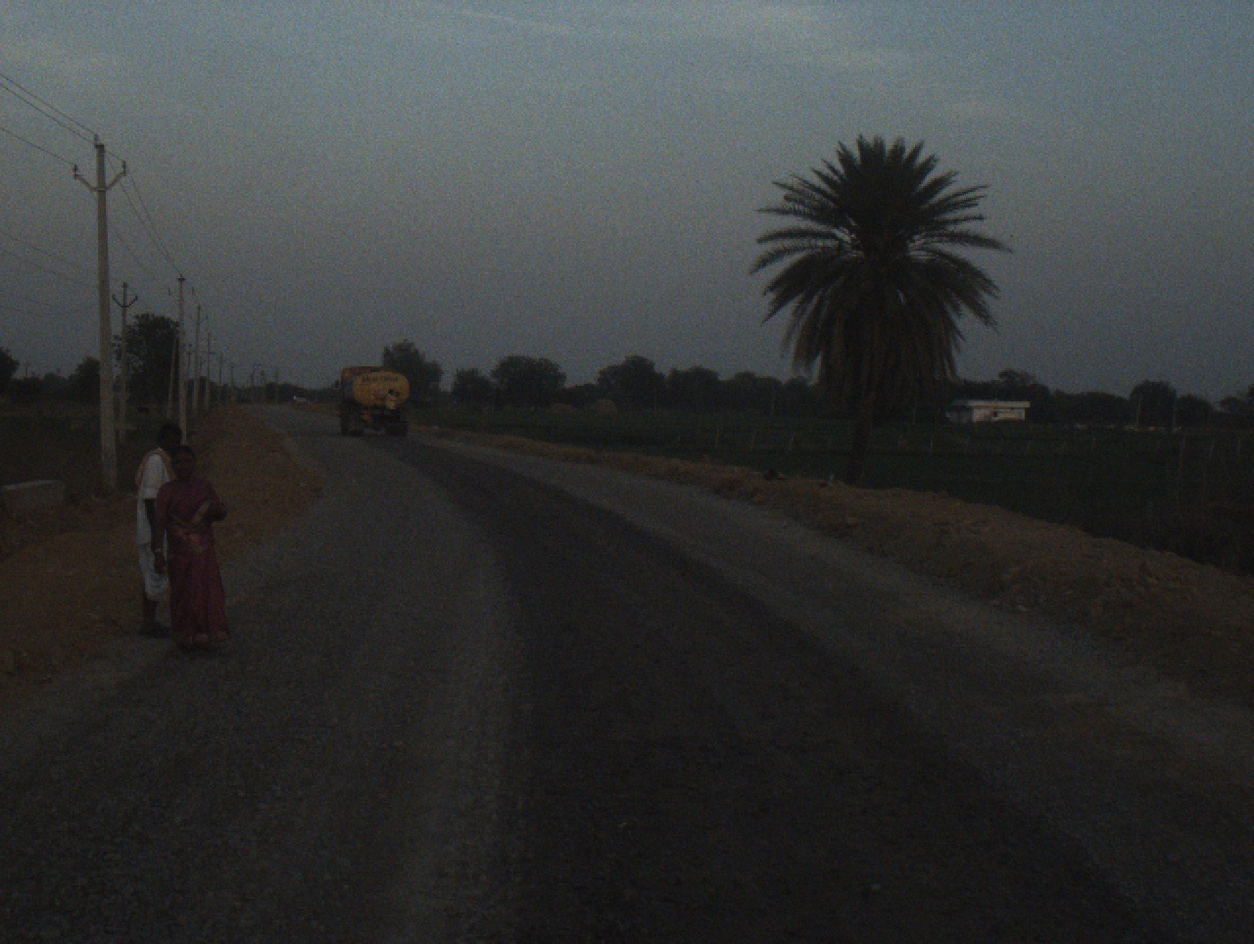person: (149, 438, 231, 658), (134, 420, 182, 647), (385, 385, 405, 418)
truck: (336, 357, 416, 446)
